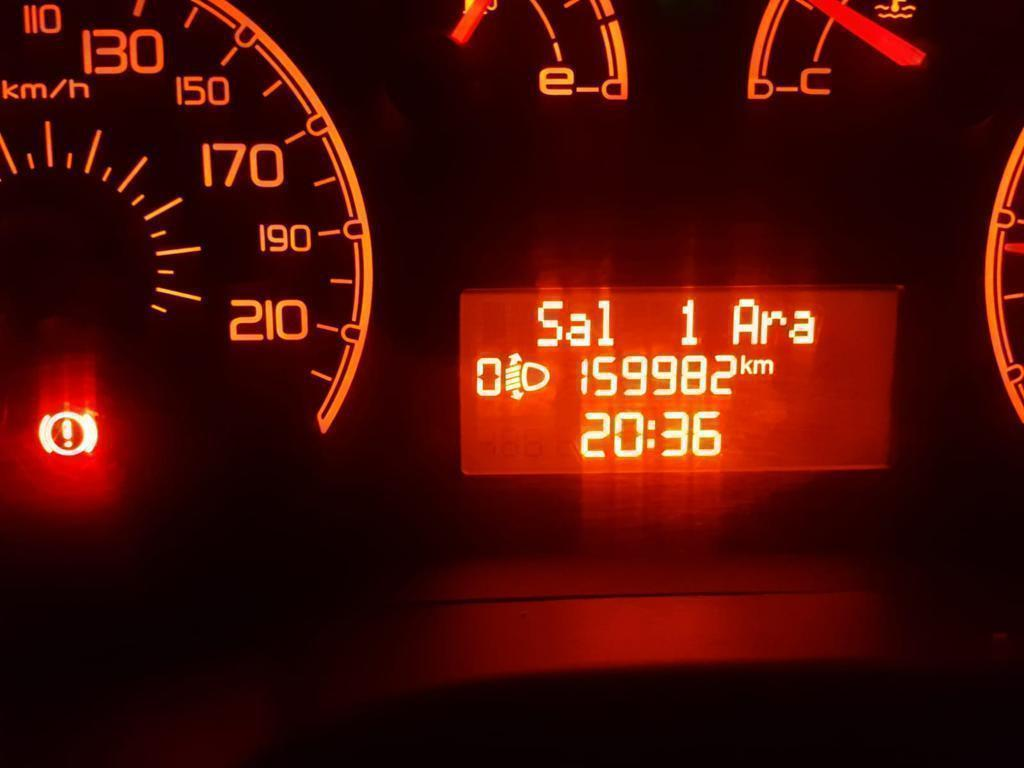0: (612, 411, 643, 457), (474, 354, 502, 400)
1: (678, 293, 701, 347), (574, 355, 589, 395)
2: (579, 409, 609, 460), (711, 351, 736, 396)
3: (661, 408, 689, 457)
5: (591, 353, 619, 398)
6: (692, 409, 724, 459)
8: (680, 352, 706, 397)
9: (650, 353, 677, 398), (621, 354, 648, 396)
X: (730, 297, 759, 345), (535, 298, 561, 348), (594, 296, 615, 347), (789, 307, 815, 346), (760, 309, 787, 343), (566, 311, 592, 346), (644, 416, 658, 453), (753, 357, 773, 376), (738, 352, 752, 375)
odometer: (448, 281, 906, 478)
